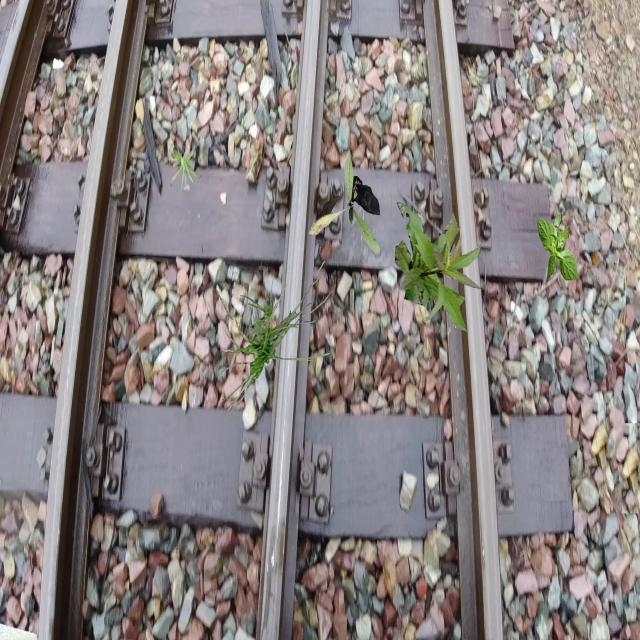Plant: (214, 260, 332, 423), (395, 202, 483, 332), (309, 155, 381, 255), (537, 212, 578, 283), (170, 147, 202, 193)
